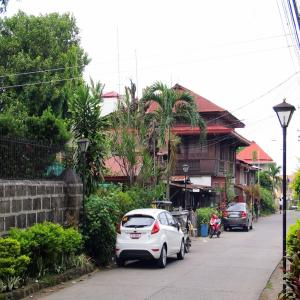Vehicle-registration-plate: (132, 234, 142, 238), (233, 215, 239, 218)
